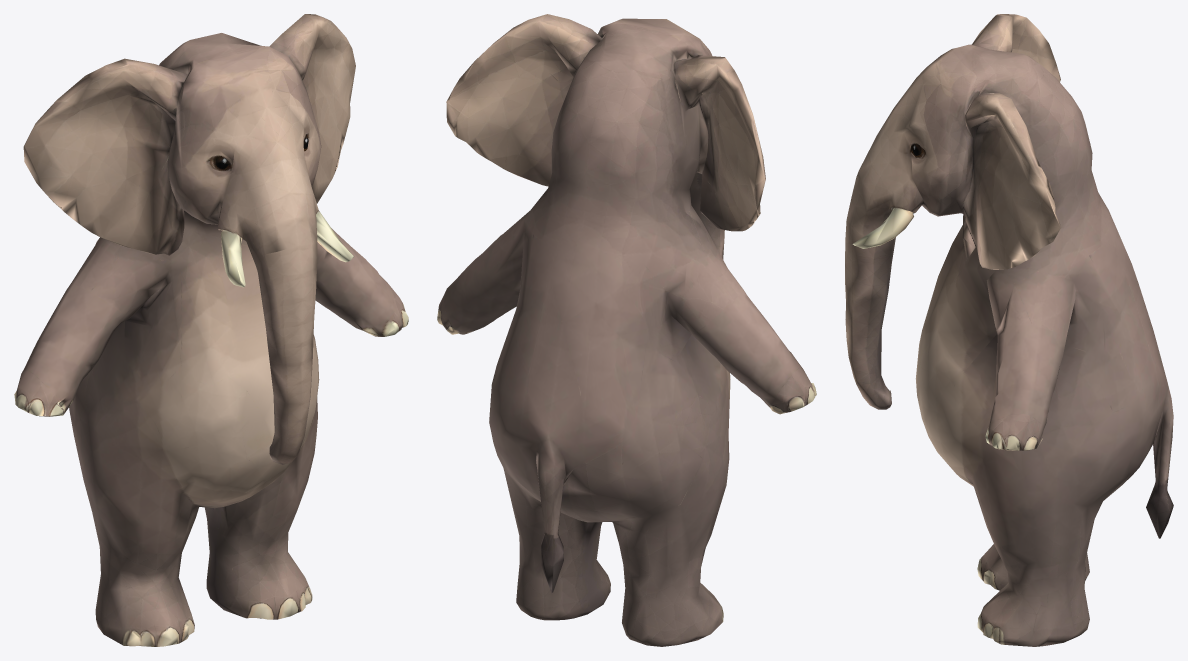
The model's file is elephant-arms.glb.
3 views of the same model, side by side, from view 1: azimuth 30°, elevation 25°; view 2: azimuth 150°, elevation 25°; view 3: azimuth 270°, elevation 25° (orthographic). The views are drawn at different scales.
Parts seen in each view (by area): view 1: elephant; view 2: elephant; view 3: elephant.
Boxes of the visible parts, left/top/right/bottom form: elephant: left=14, top=14, right=408, bottom=646; elephant: left=437, top=14, right=816, bottom=646; elephant: left=845, top=14, right=1173, bottom=646.
Size of the model in its own units: 1.31 by 1.9 by 1.03.
Materials: 1 (1 with a texture image).
